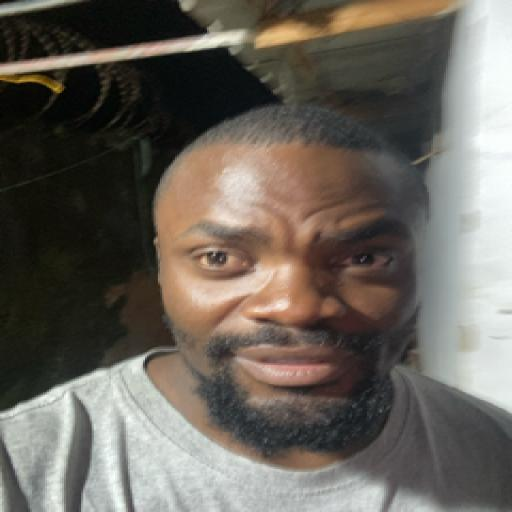JEANLUC: (150, 96, 442, 474)
